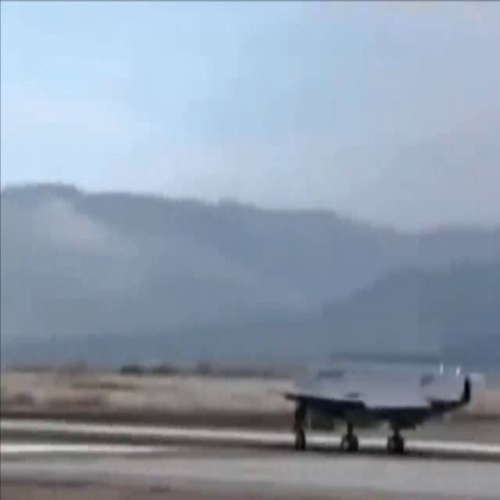uav: (276, 364, 473, 458)
